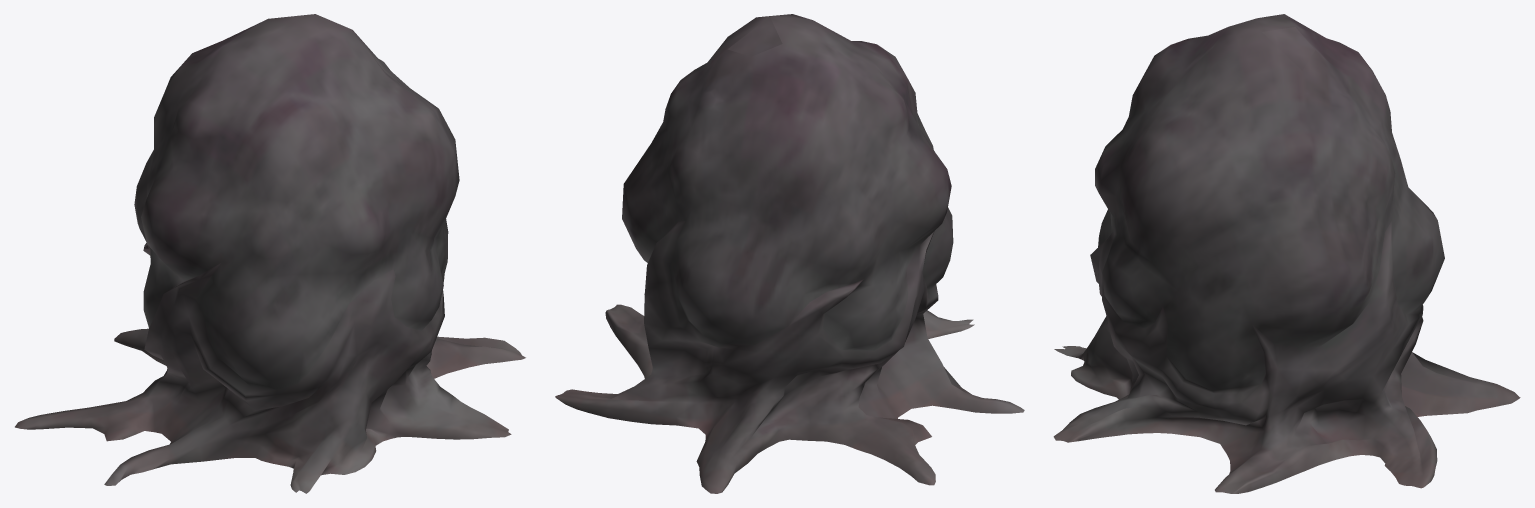
Rendered from Cocoon (22).fbx.
The picture shows the model from 3 angles, left to right: view 1: azimuth 30°, elevation 25°; view 2: azimuth 150°, elevation 25°; view 3: azimuth 270°, elevation 25°; orthographic projection. The views are drawn at different scales.
Visible parts, largest first — view 1: Egg; view 2: Egg; view 3: Egg.
Boxes of the visible parts, left/top/right/bottom form: Egg: left=15, top=14, right=525, bottom=493; Egg: left=555, top=14, right=1024, bottom=493; Egg: left=1053, top=14, right=1520, bottom=493.
Size of the model in its own units: 1.09 by 0.9662 by 1.03.
1 material, 1 textured.
